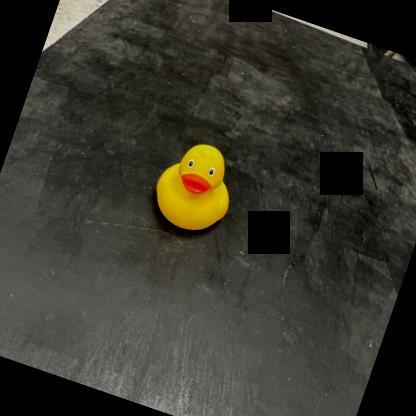duck: (142, 130, 248, 245)
